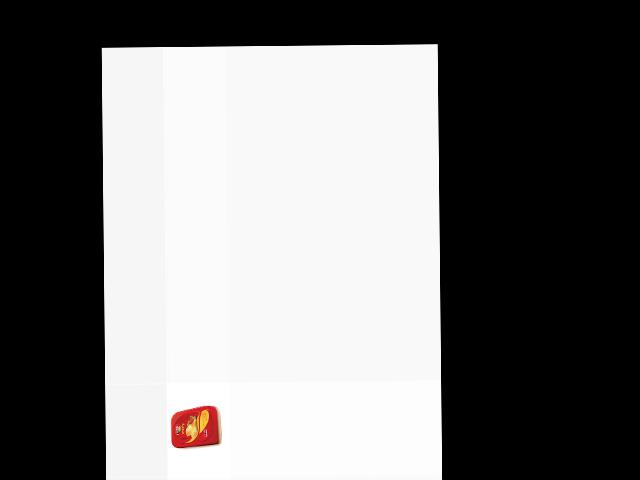cheese: (168, 405, 221, 450)
